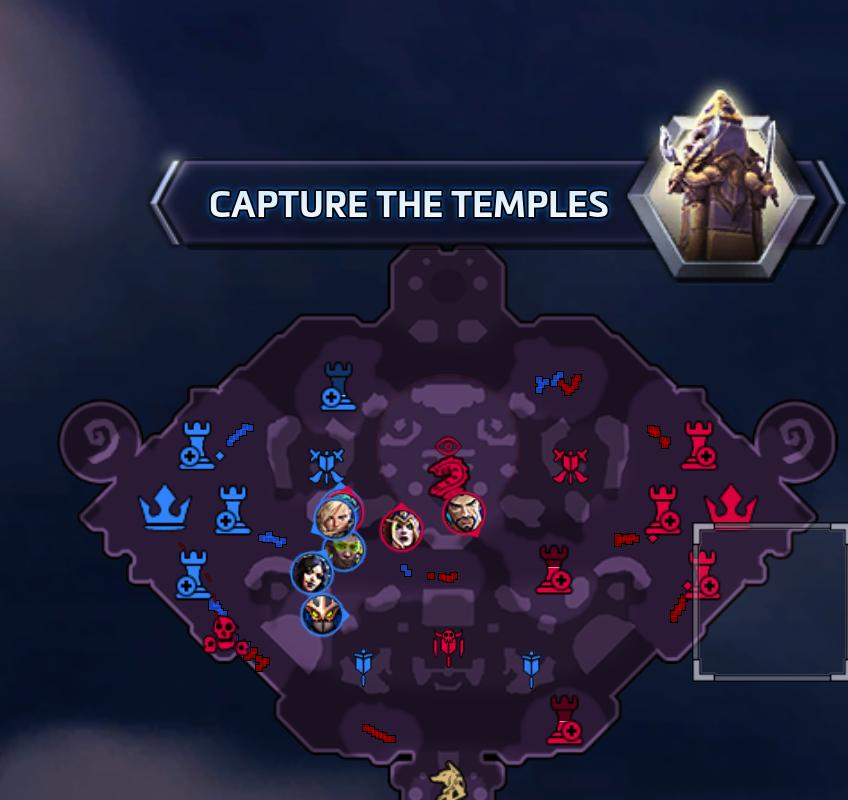blue nexus: (135, 478, 202, 534)
blue player: (312, 489, 362, 539), (300, 592, 345, 635), (290, 551, 332, 594), (325, 532, 365, 570)
blue tower: (170, 545, 215, 603), (175, 415, 215, 473), (215, 479, 255, 534), (319, 358, 357, 411)
red boss: (202, 611, 249, 662)
red nexus: (702, 476, 763, 535)
red player: (379, 505, 422, 552), (442, 491, 485, 536)
red tower: (542, 691, 588, 754), (532, 537, 581, 593), (681, 548, 727, 605), (643, 482, 688, 538), (682, 417, 718, 472)
